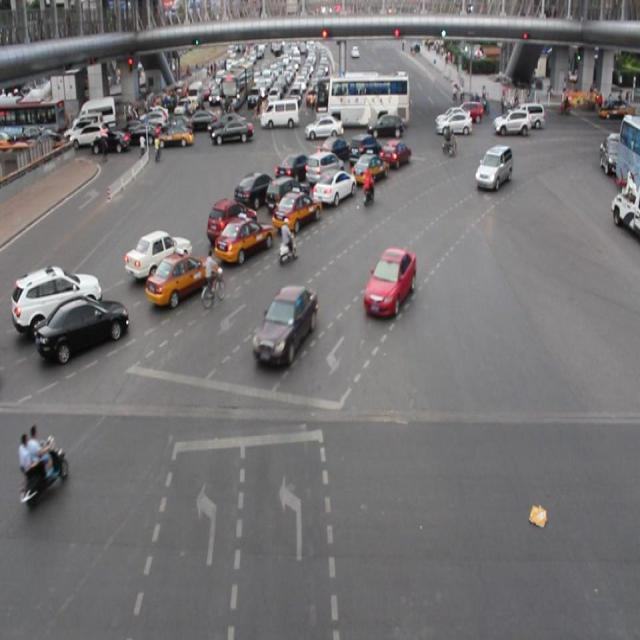car: (37, 296, 128, 363), (13, 267, 102, 335), (254, 284, 318, 364), (144, 251, 216, 306), (362, 244, 415, 309), (126, 230, 192, 282), (215, 215, 274, 260), (206, 196, 256, 239), (276, 192, 319, 235), (266, 174, 310, 211), (312, 171, 357, 206), (475, 143, 510, 185), (236, 172, 275, 206), (305, 149, 344, 183), (350, 151, 387, 186), (274, 150, 313, 183), (349, 133, 385, 168), (380, 139, 412, 172), (322, 134, 351, 166)
